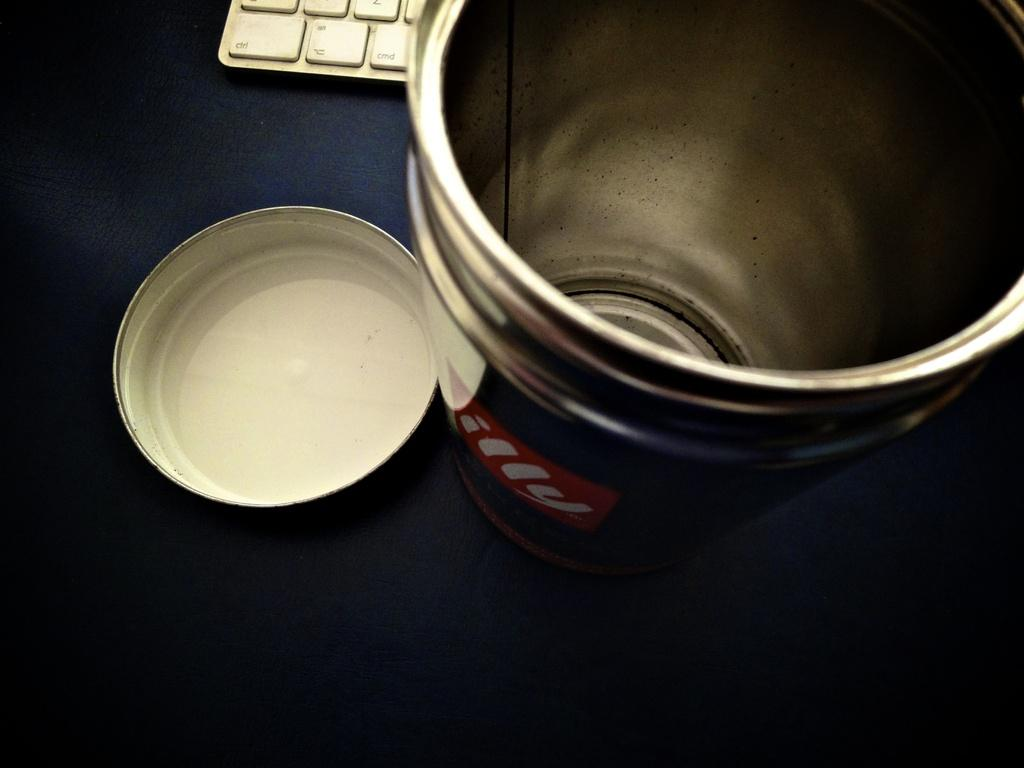Computer-keyboard: (218, 0, 416, 84)
